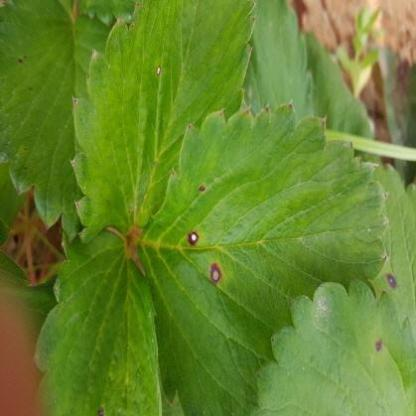Strawberry_Leaf_Spot: (136, 101, 388, 415), (70, 0, 256, 245), (1, 0, 113, 258), (34, 230, 162, 416), (255, 280, 415, 415), (369, 162, 415, 340)
